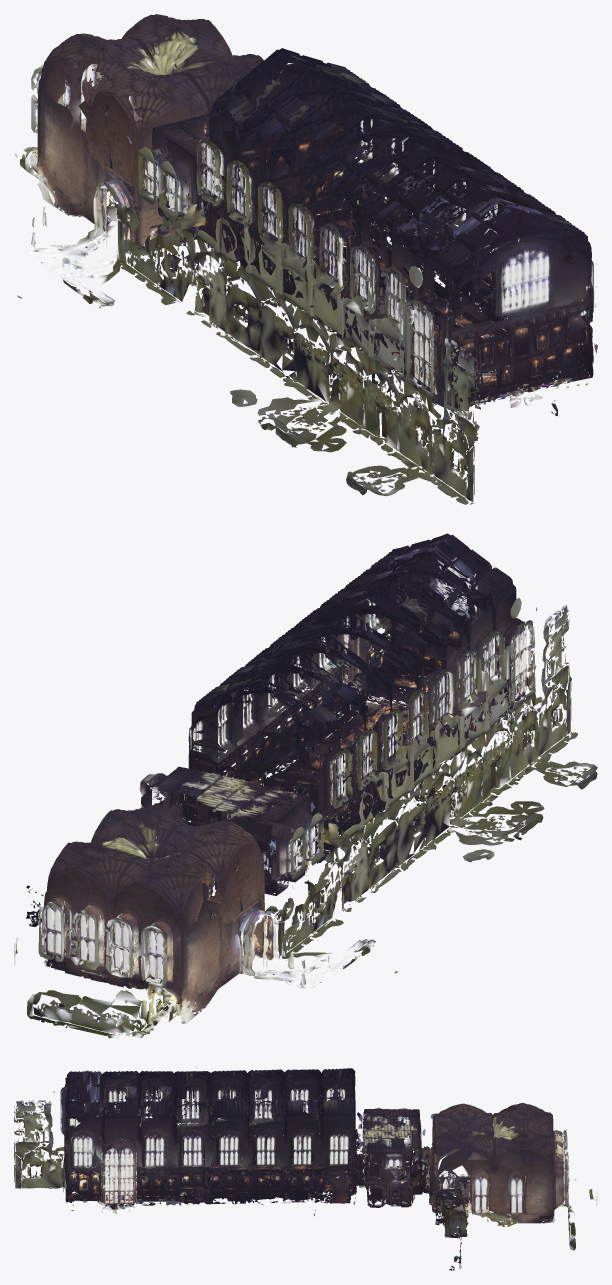
Rendered from christ-church-mobile.glb.
The picture shows the model from 3 angles, top to bottom: view 1: azimuth 30°, elevation 25°; view 2: azimuth 150°, elevation 25°; view 3: azimuth 270°, elevation 25°; orthographic projection. The views are drawn at different scales.
Visible parts, largest first — view 1: Christ Church, Oxford; view 2: Christ Church, Oxford; view 3: Christ Church, Oxford.
Part boxes in pixels (x1=…): Christ Church, Oxford: x1=14, y1=14, x2=597, y2=504; Christ Church, Oxford: x1=14, y1=533, x2=597, y2=1038; Christ Church, Oxford: x1=14, y1=1067, x2=597, y2=1270.
Size of the model in its own units: 32.37 by 21.61 by 70.14.
18 materials, 17 textured.
